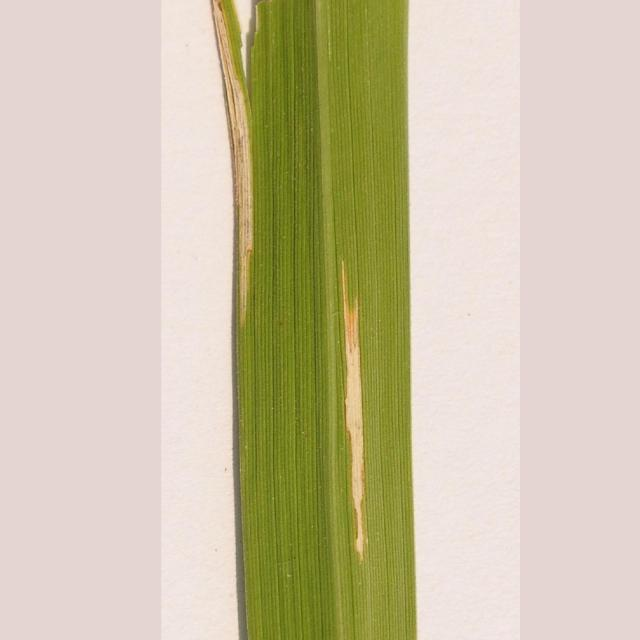leaf blight: (193, 1, 258, 333), (328, 265, 393, 577)
